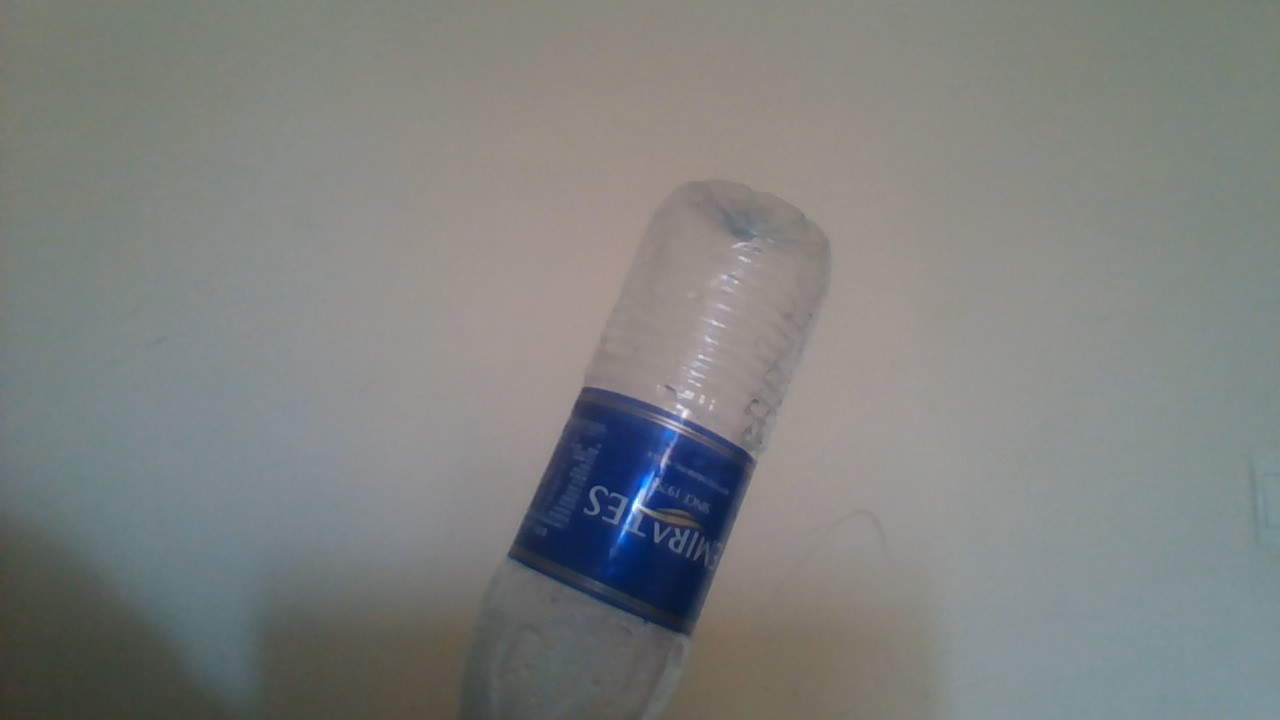plastic: (453, 176, 845, 720)
